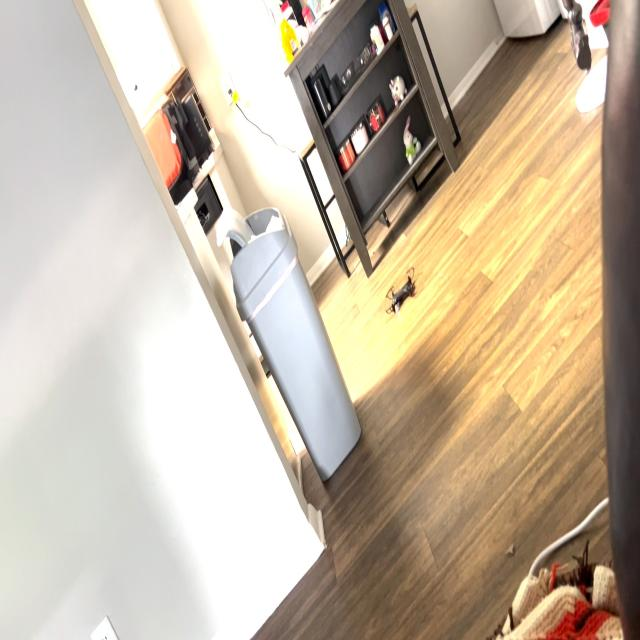drone: (381, 256, 423, 328)
